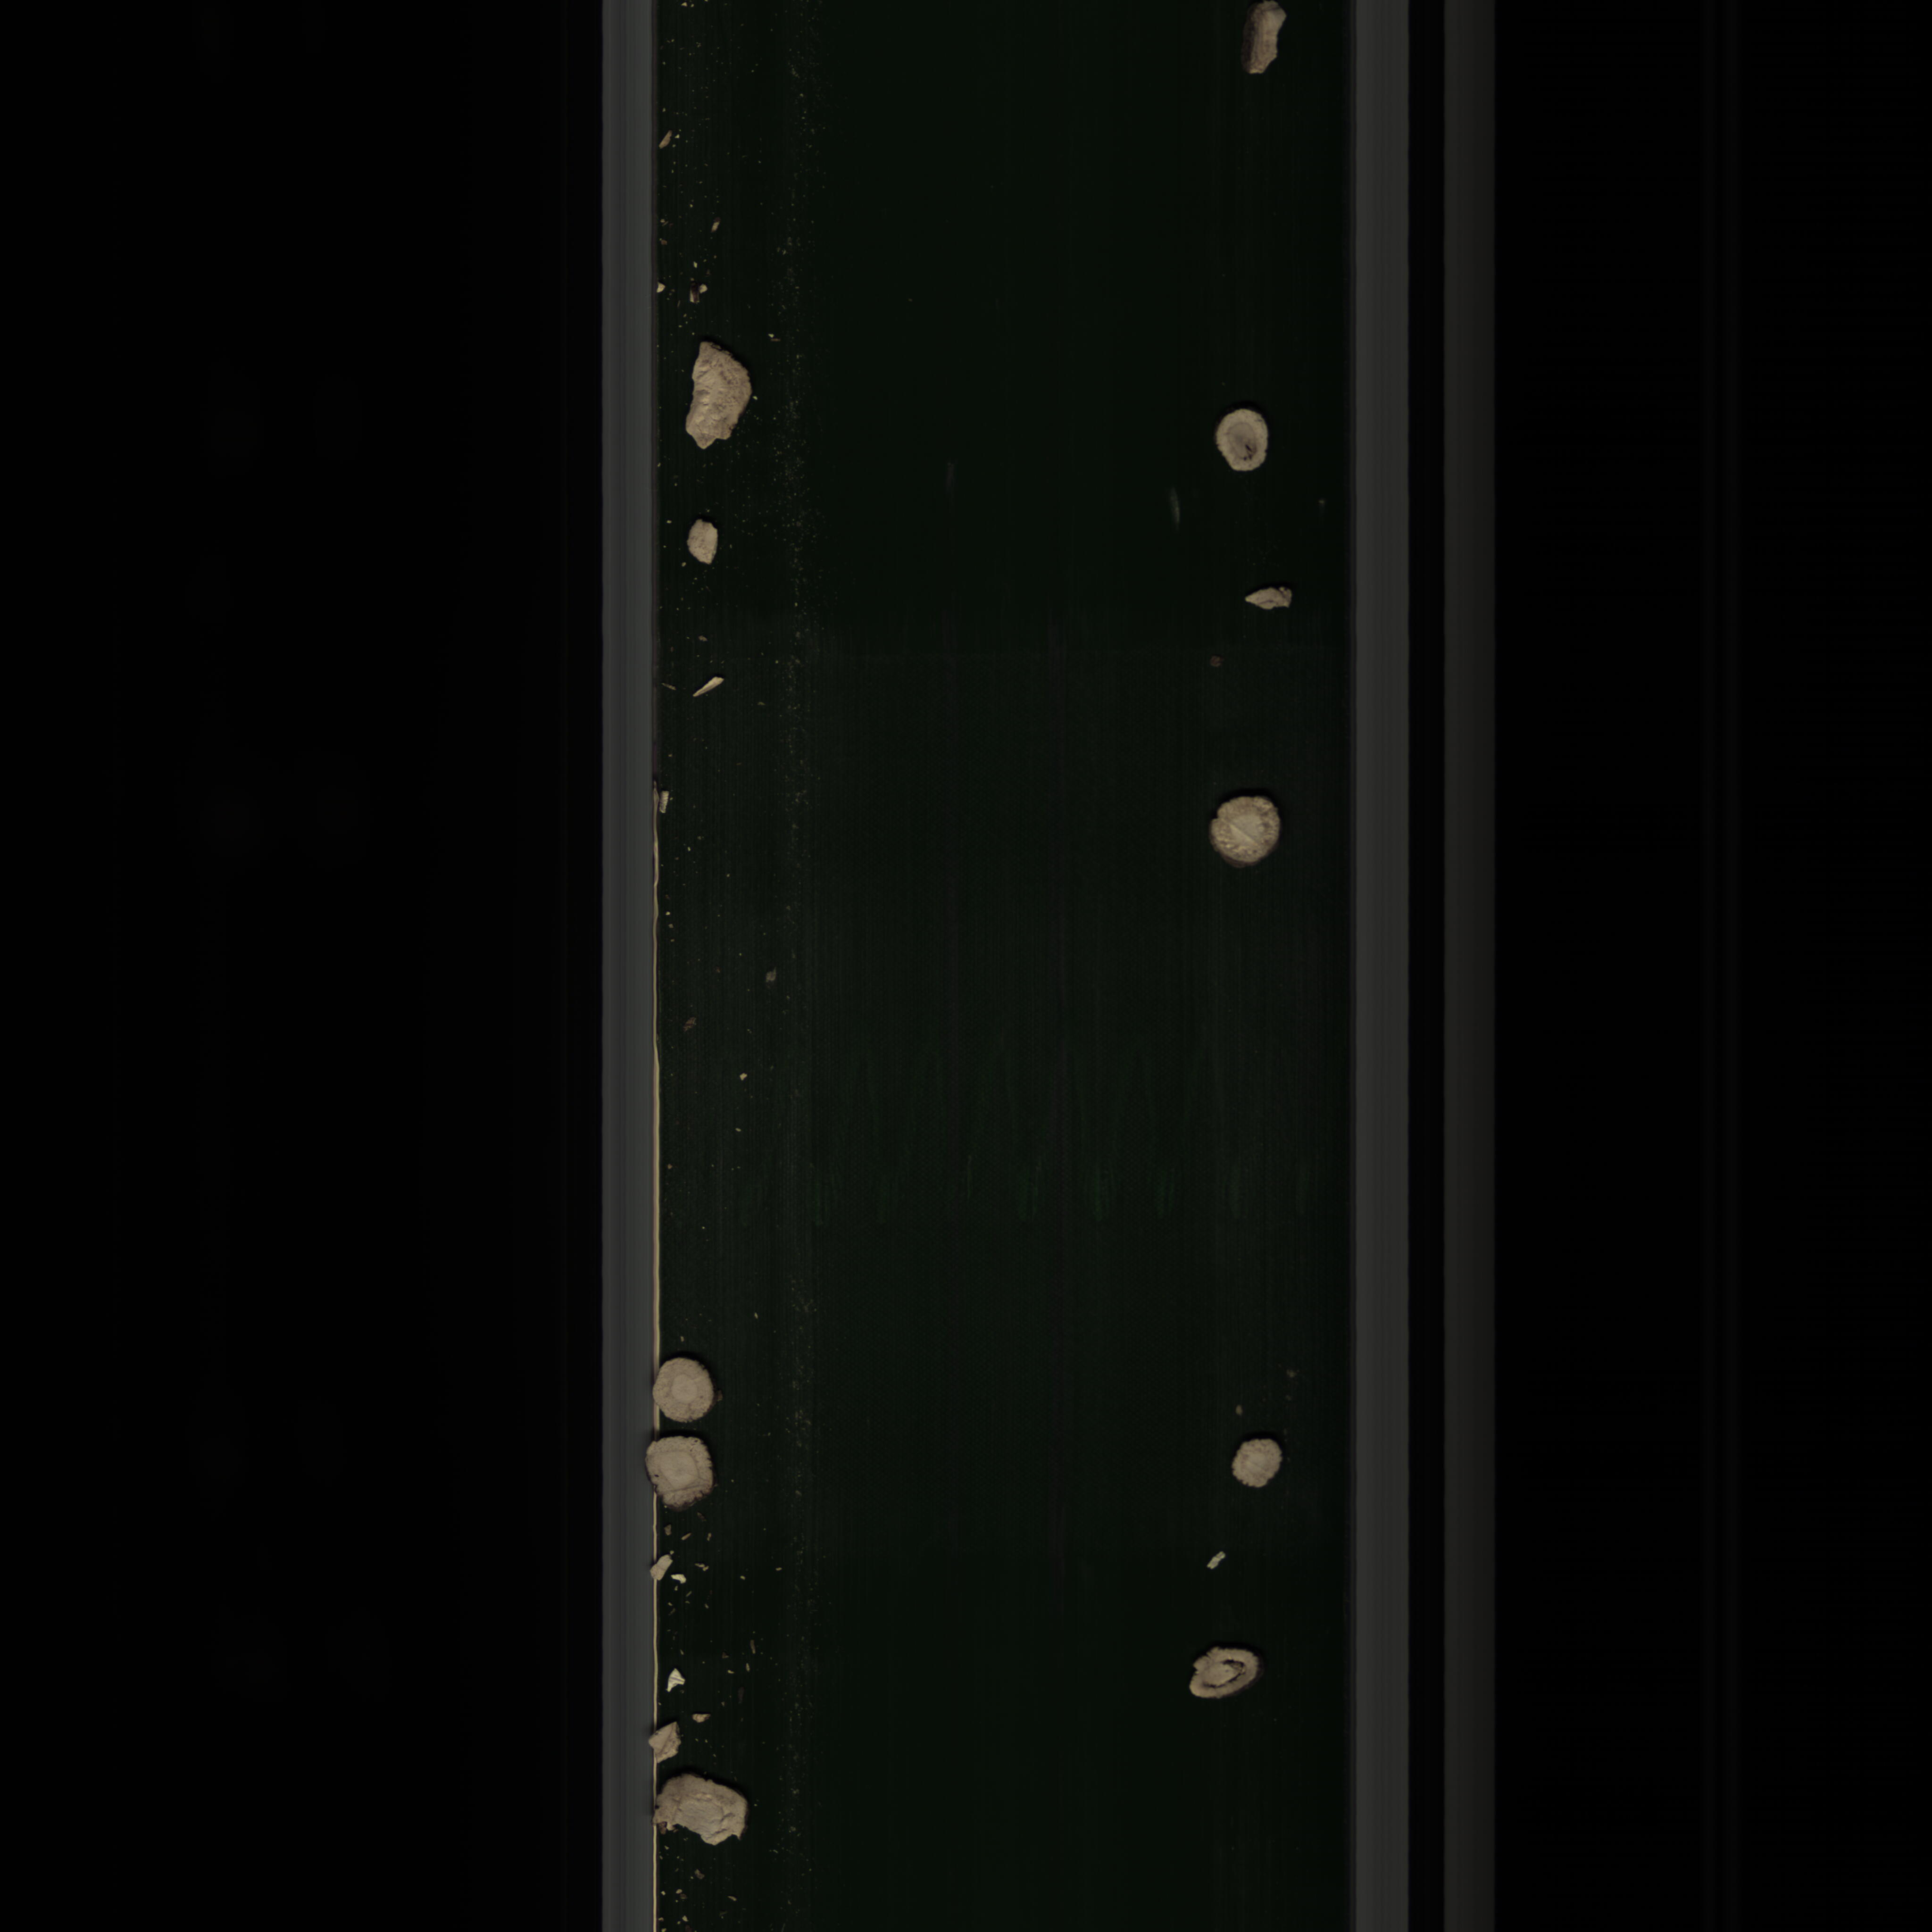debris: (683, 331, 764, 458), (651, 1771, 755, 1856), (685, 517, 732, 571), (1237, 584, 1306, 621), (648, 1714, 692, 1764), (688, 671, 732, 708), (663, 1667, 692, 1693)
hole: (1212, 400, 1276, 478)
